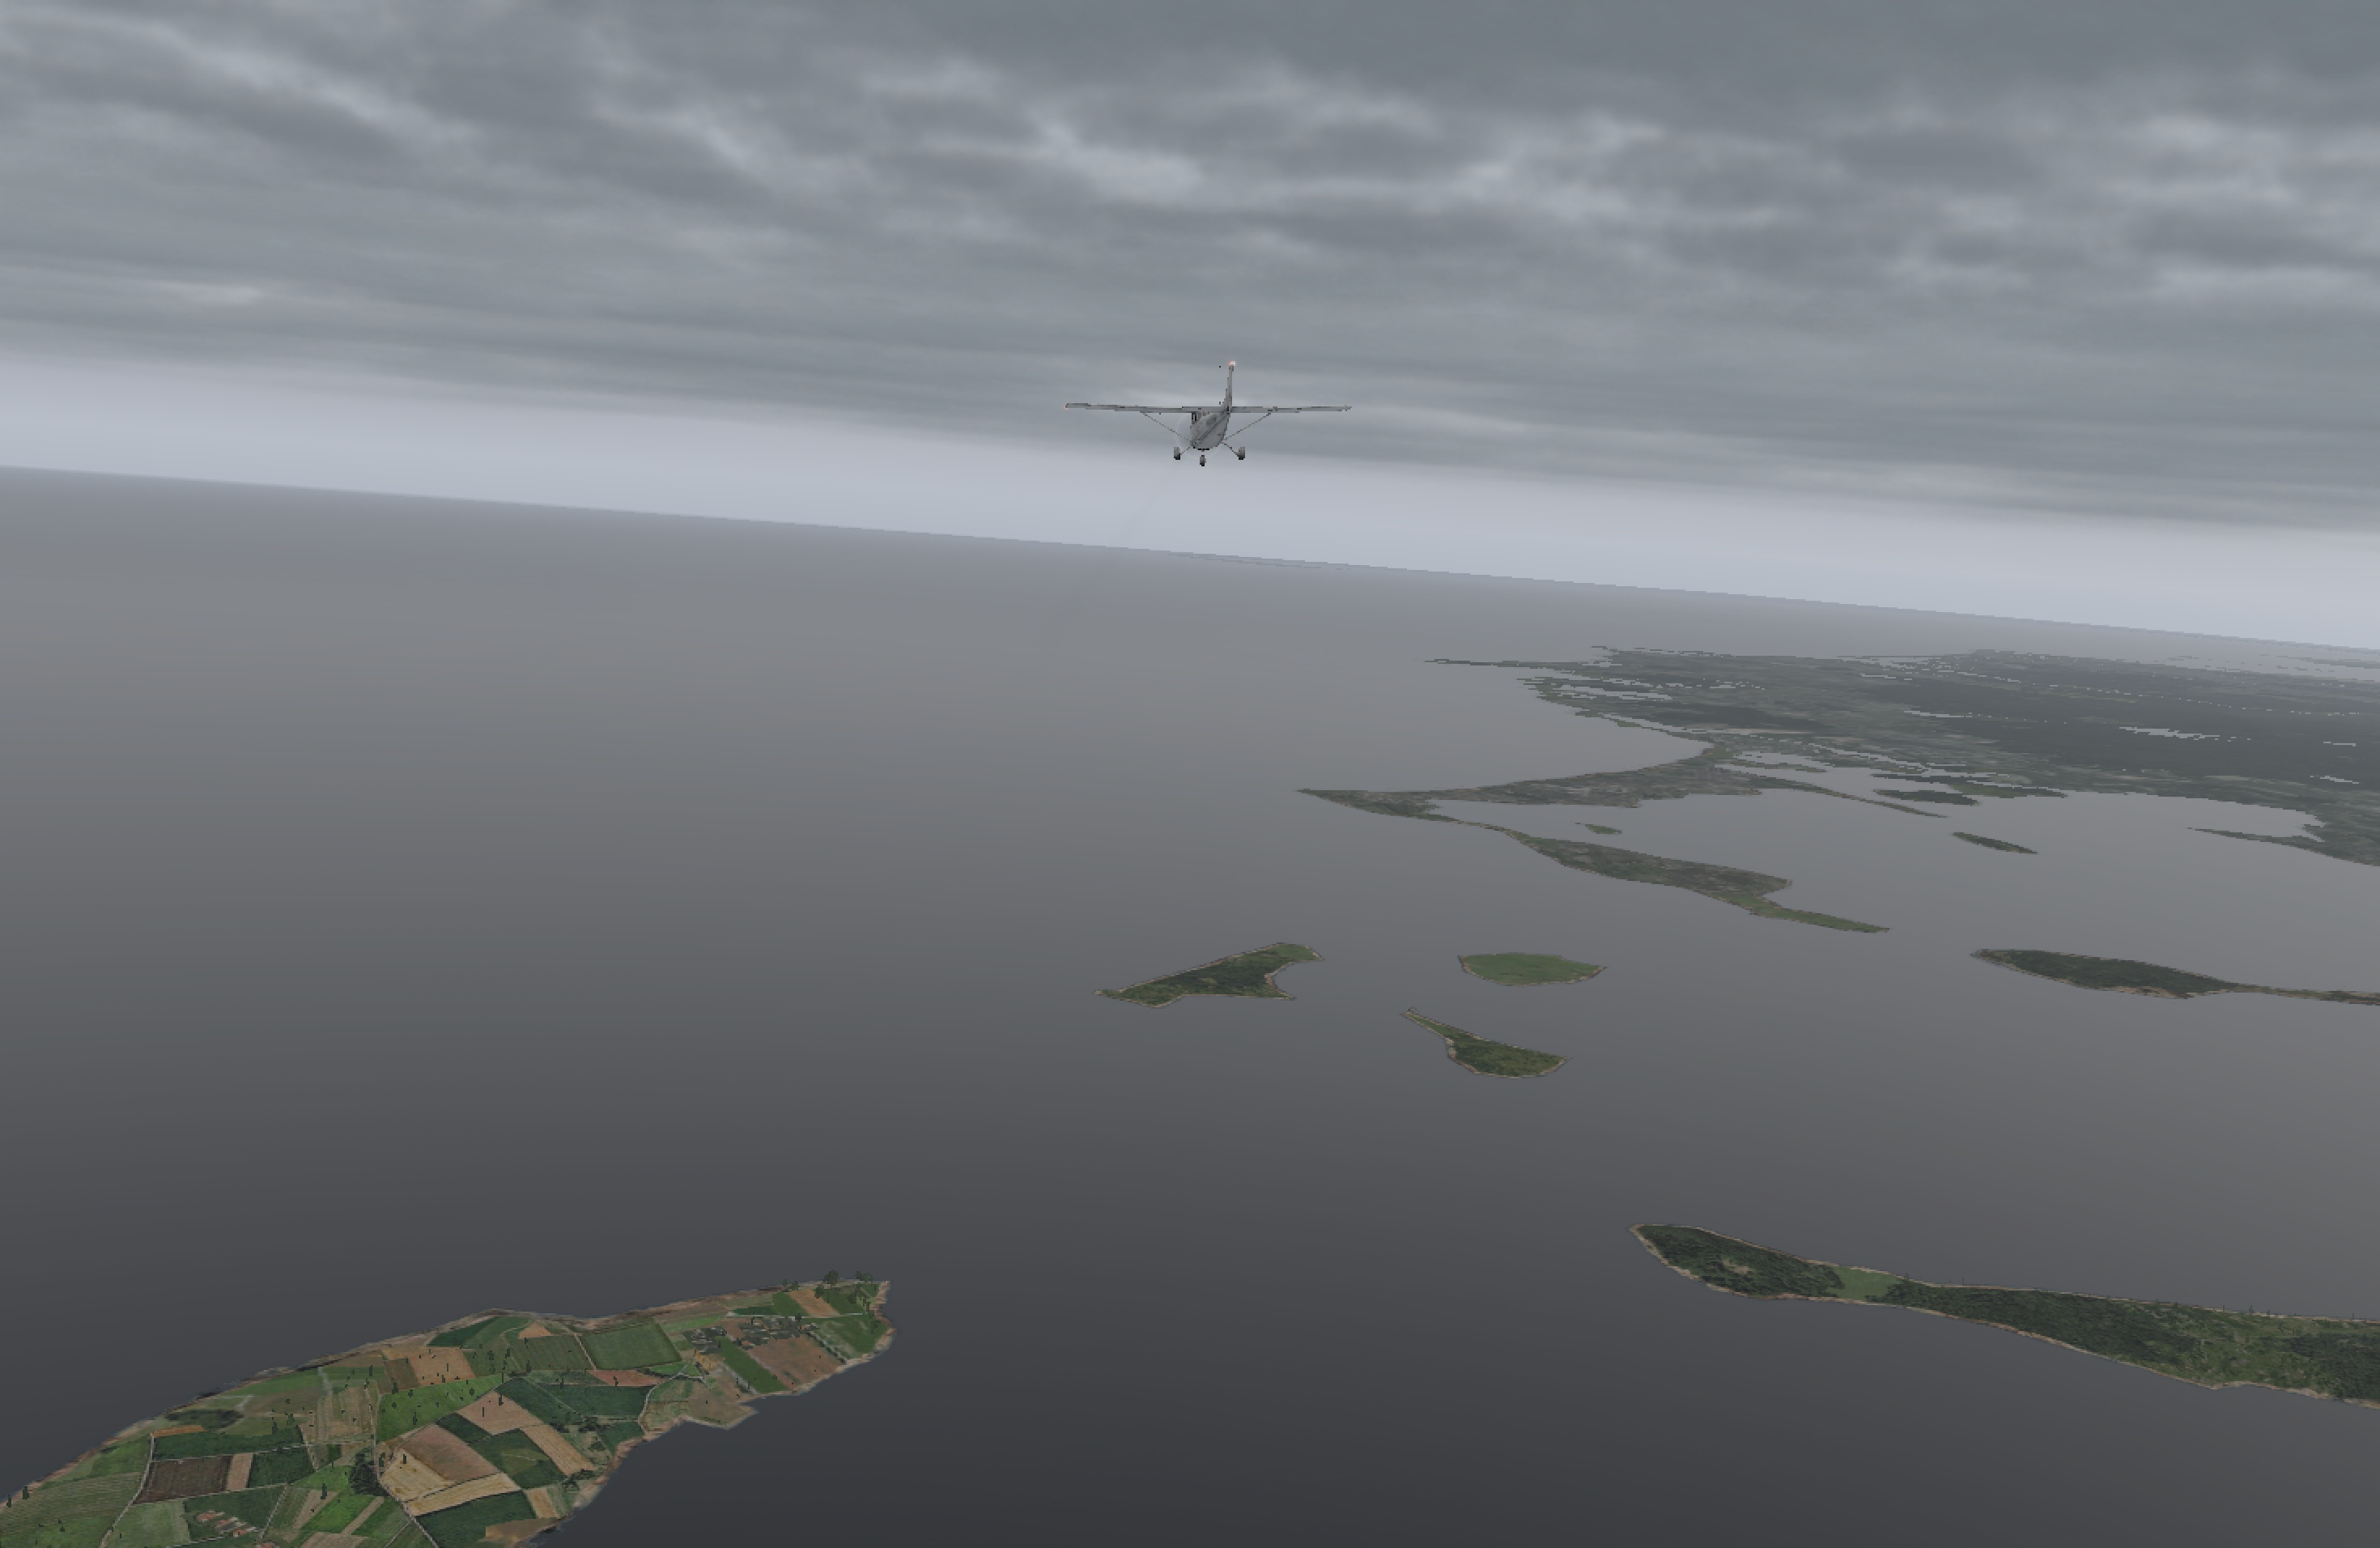aircraft: (1107, 387, 1308, 463)
